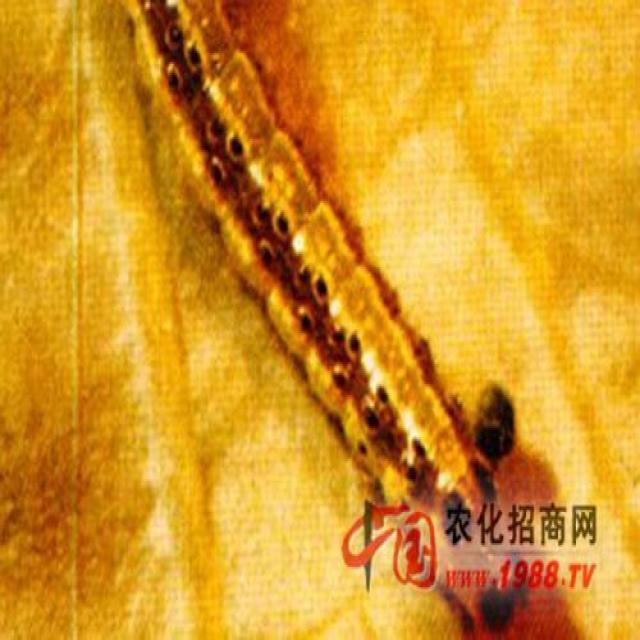armyworm: (127, 1, 562, 640)
